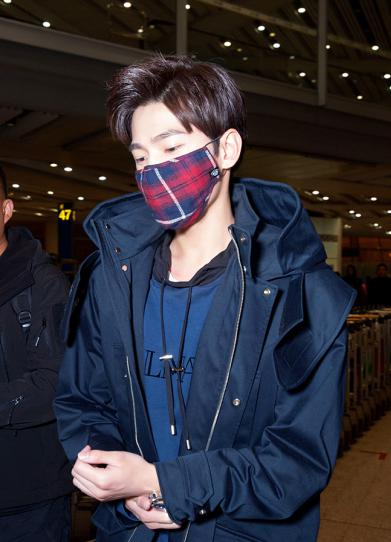face_mask: (130, 99, 212, 227)
